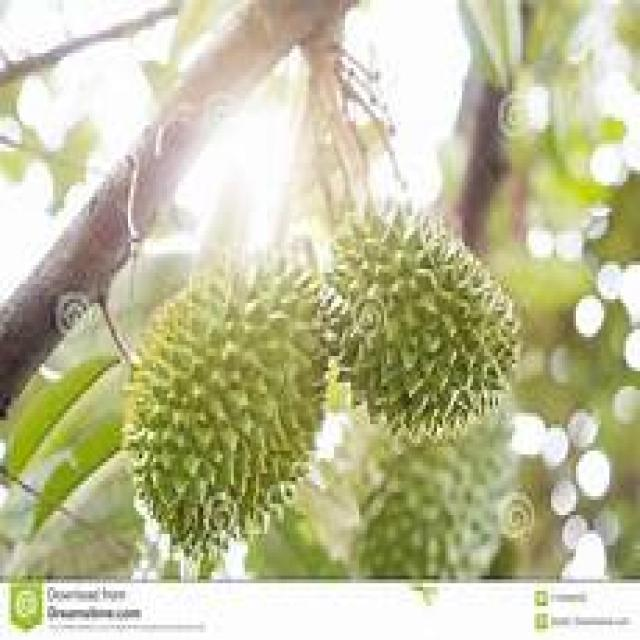immature: (126, 252, 325, 559), (317, 192, 523, 434)
